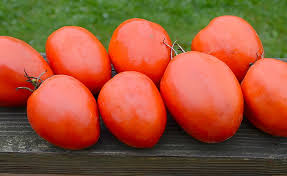tomato: (161, 54, 246, 143), (98, 71, 165, 150), (26, 80, 100, 146)
